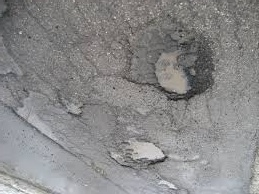pothole: (144, 33, 213, 101), (12, 95, 58, 149), (105, 136, 169, 172), (60, 92, 82, 122)
